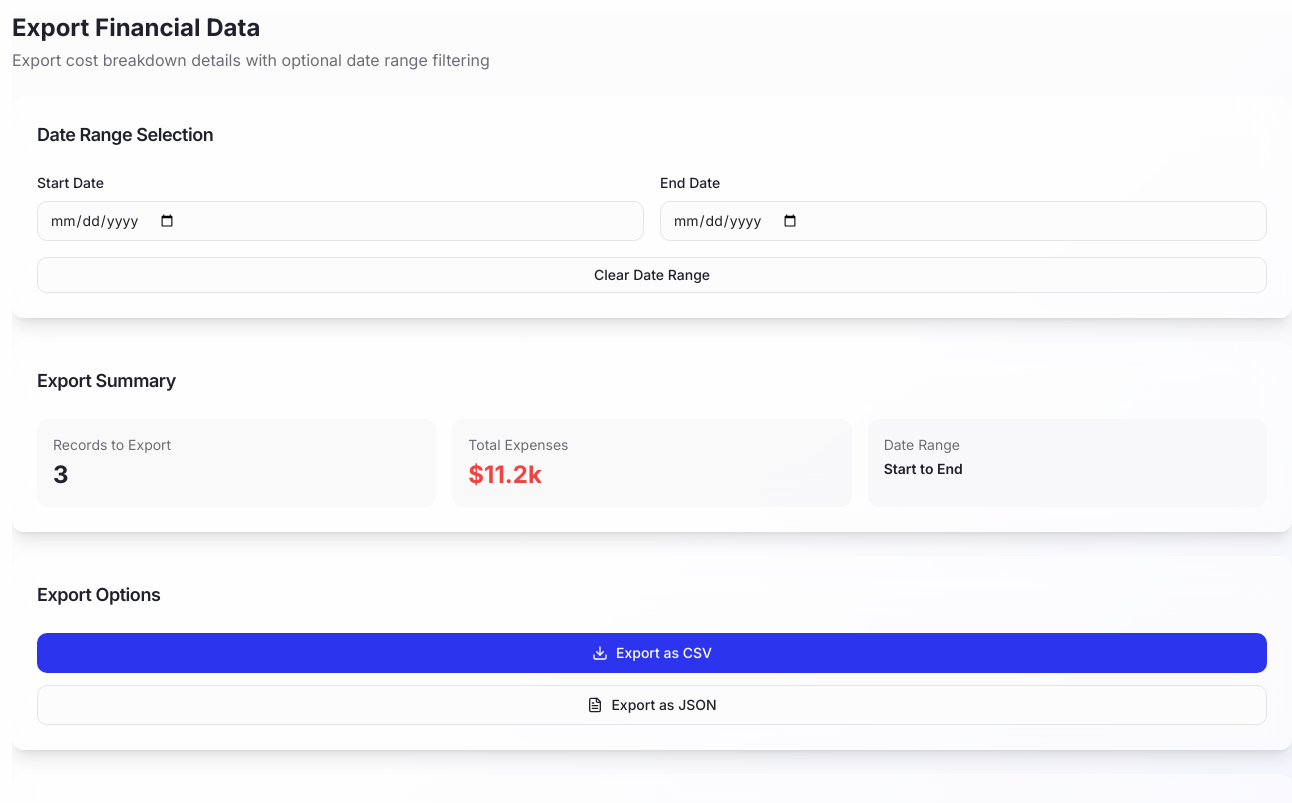
FinancialDataExport › clears date range when reset button is clicked
In the date field labelled "Start Date": (340, 221) left=37, top=201, right=644, bottom=241, type "2024-01-01"
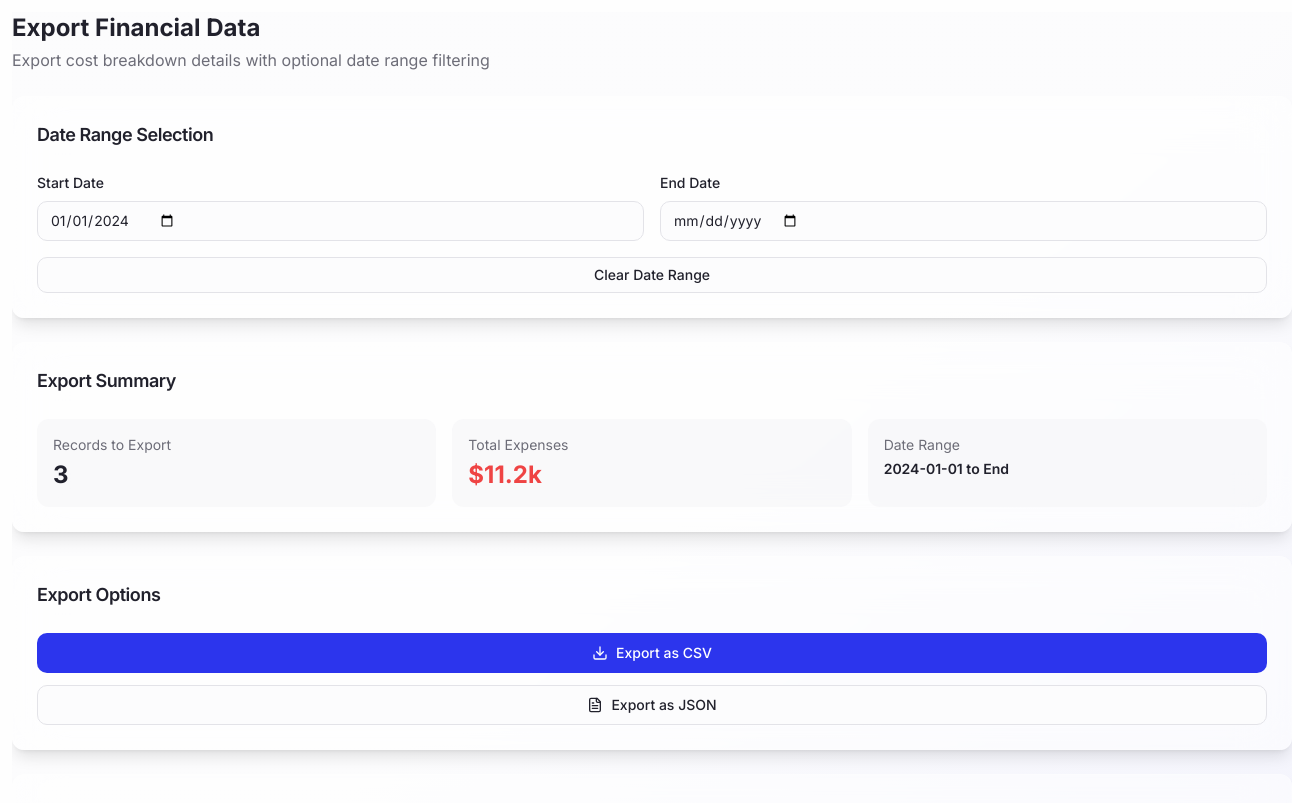
In the date field labelled "End Date": (964, 221) left=660, top=201, right=1267, bottom=241, type "2024-01-31"
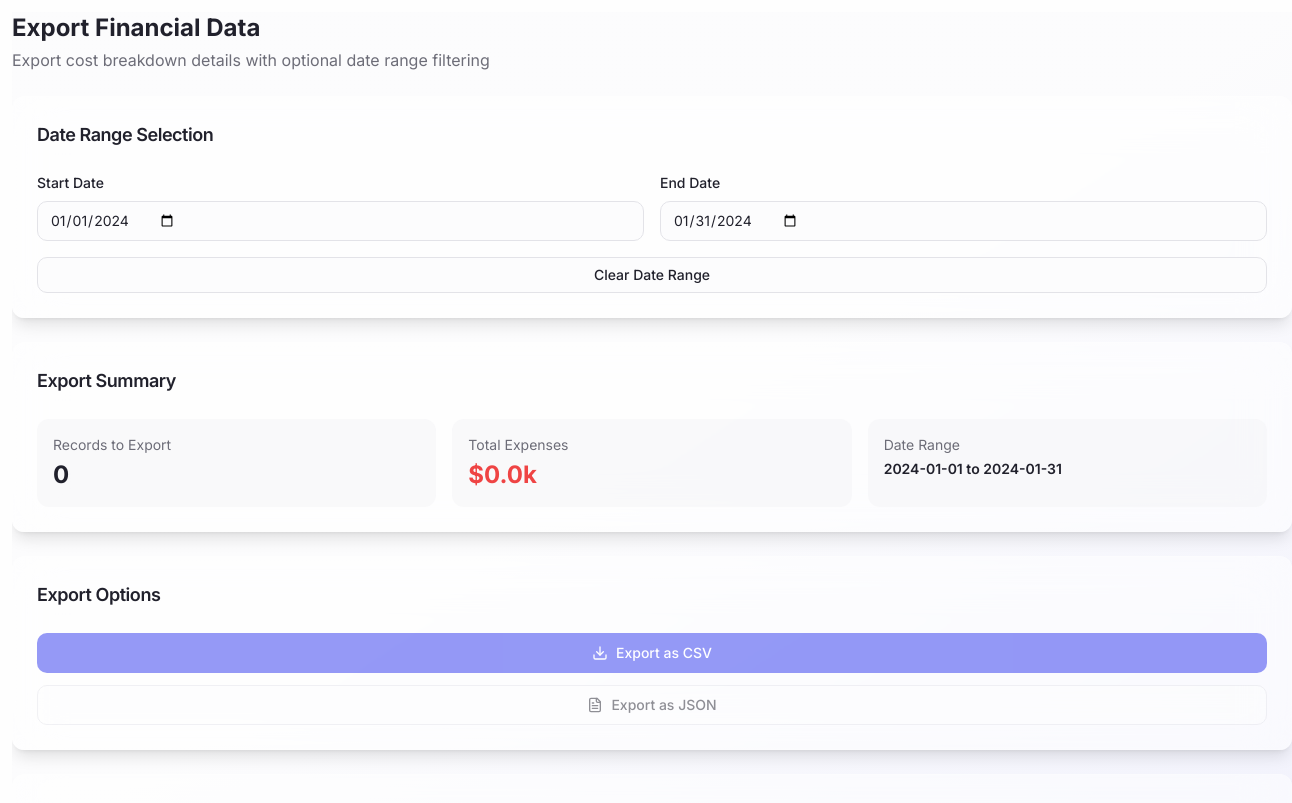
Click the button "Clear Date Range": (652, 275) left=37, top=257, right=1267, bottom=293
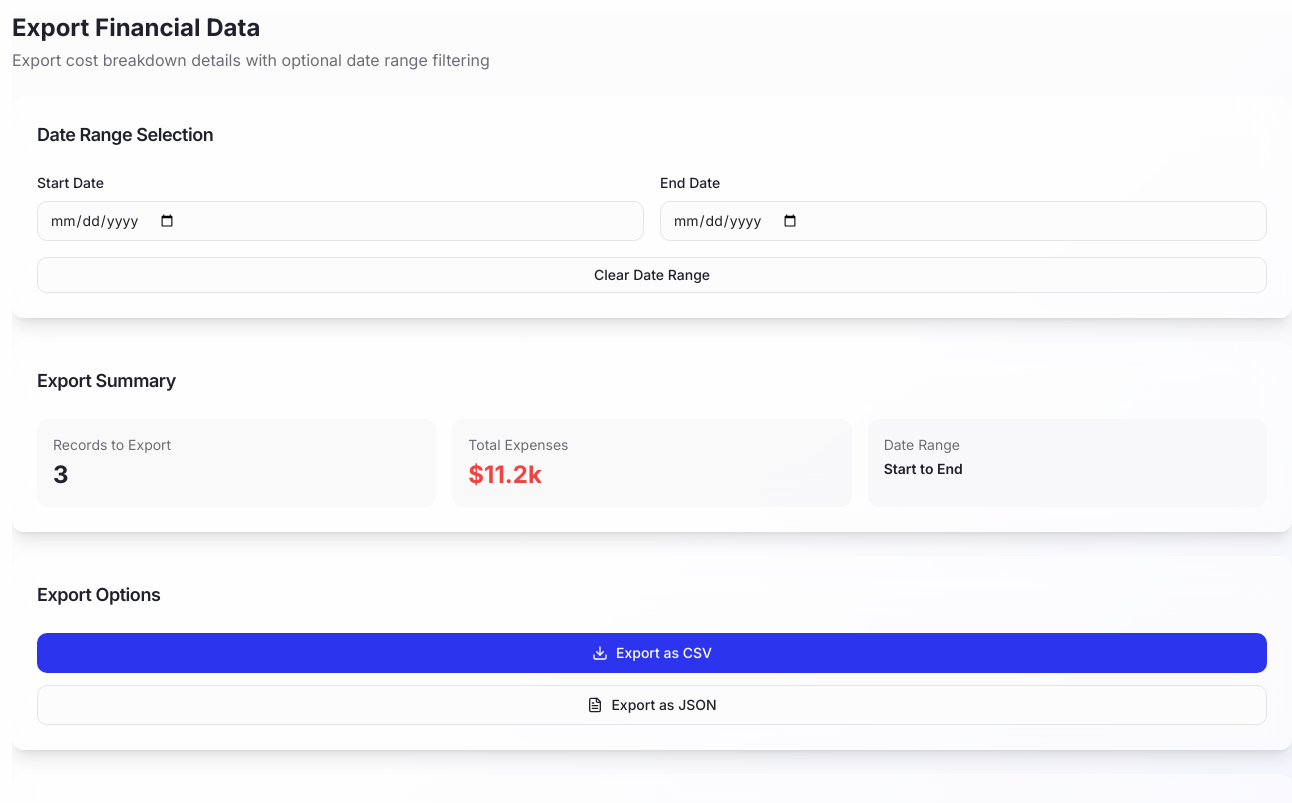
Now the date field labelled "Start Date" is empty, box left=37, top=201, right=644, bottom=241
Now the date field labelled "End Date" is empty, box left=660, top=201, right=1267, bottom=241
